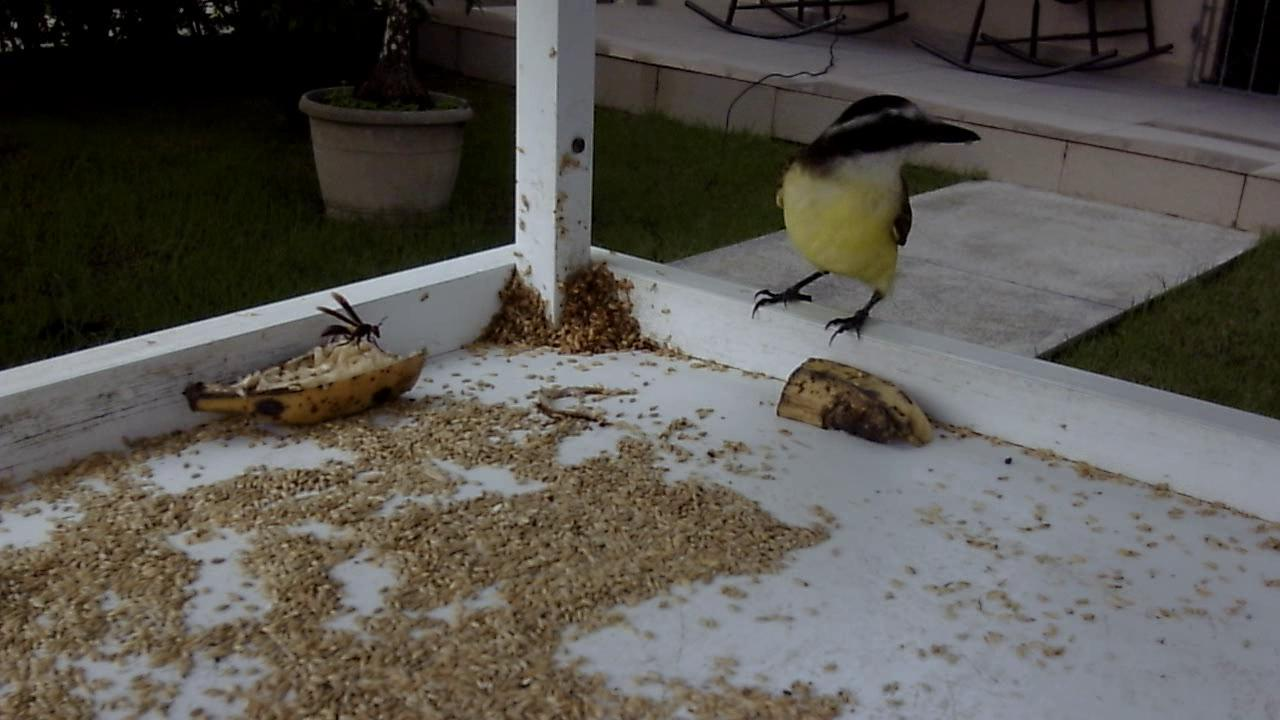bem_te_vi: (740, 78, 985, 354)
